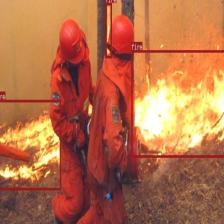fire: (131, 49, 224, 156), (0, 99, 61, 190), (105, 3, 112, 58)
